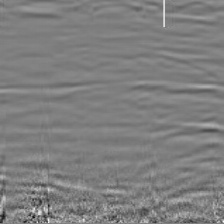cavities: (13, 73, 207, 168)
